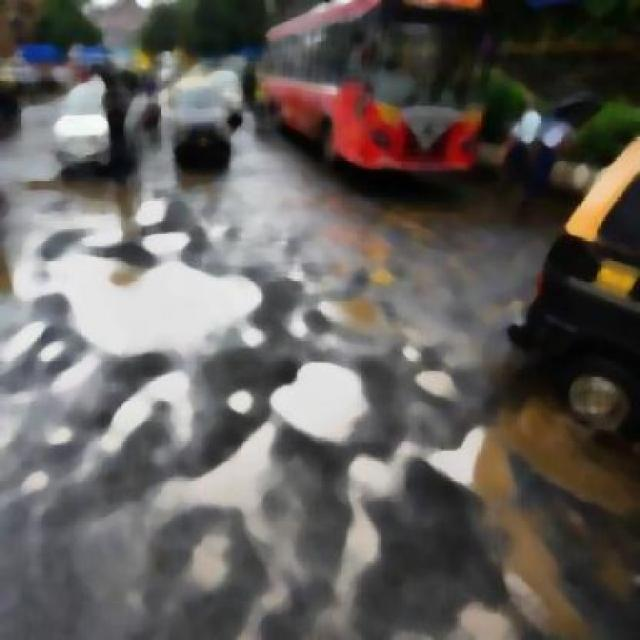pothole: (419, 398, 639, 639), (0, 218, 266, 381), (272, 356, 371, 456), (156, 447, 275, 512)
